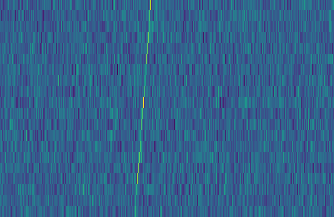signal: (129, 0, 154, 217)
